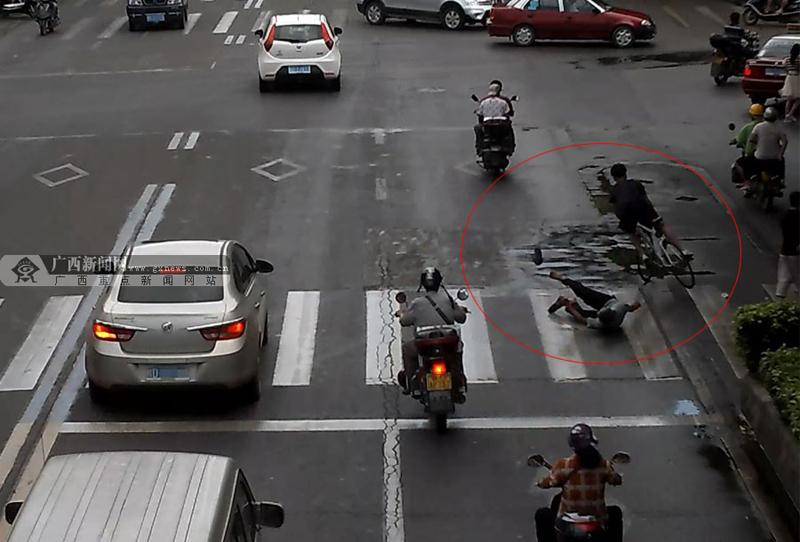fall: (542, 264, 645, 338)
